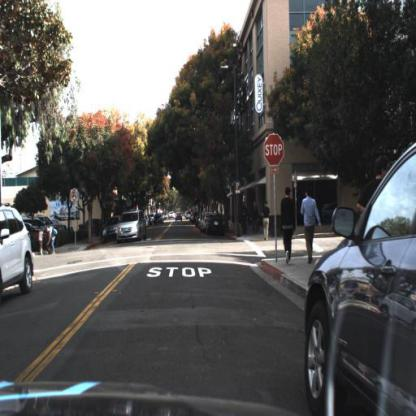car: (305, 140, 416, 416), (1, 204, 36, 307), (116, 209, 151, 245), (118, 208, 148, 242), (102, 214, 123, 245), (206, 216, 233, 239)
pedestrian: (300, 186, 324, 267), (280, 185, 296, 266), (45, 224, 59, 257), (47, 223, 59, 259), (251, 200, 262, 238), (263, 201, 271, 243), (242, 200, 251, 235), (38, 228, 47, 258)
